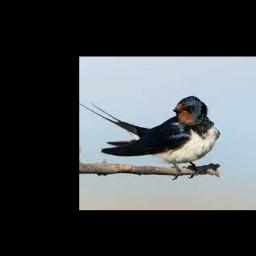Swallow: (79, 96, 219, 177)
